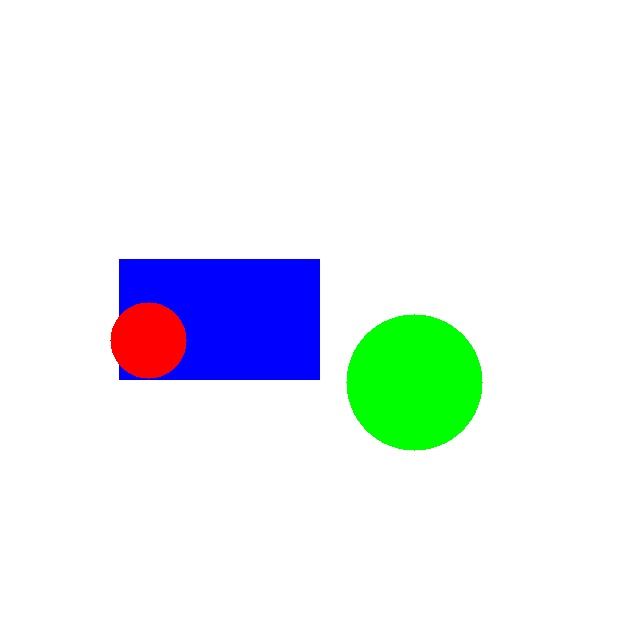cartao: (119, 259, 319, 379)
rosca_externa: (346, 314, 482, 450)
rosca_interna: (110, 302, 186, 378)
